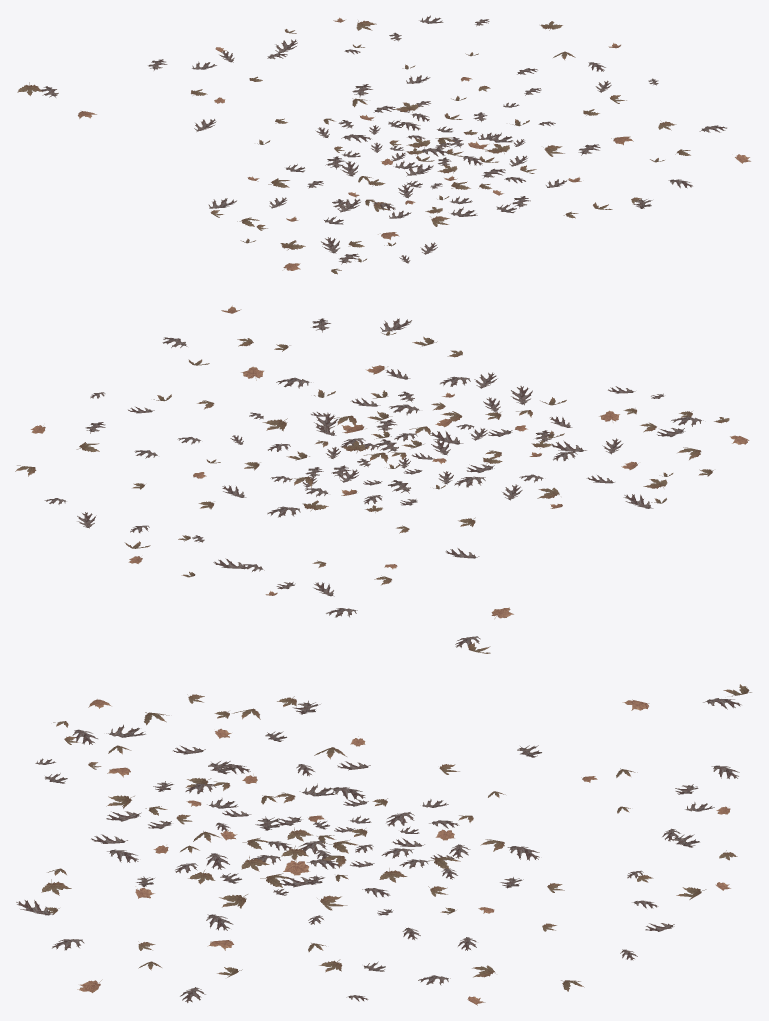
The model's file is SM_Cave_Leaf_Pile03_1.glb.
3 renders of one model, top to bottom at view 1: azimuth 30°, elevation 25°; view 2: azimuth 150°, elevation 25°; view 3: azimuth 270°, elevation 25°, orthographic. The views are drawn at different scales.
Visible parts, largest first — view 1: SM_Cave_Leaf_Pile03_1; view 2: SM_Cave_Leaf_Pile03_1; view 3: SM_Cave_Leaf_Pile03_1.
Boxes of the visible parts, x1,y1,x2,y2 form: SM_Cave_Leaf_Pile03_1: (17, 15, 750, 274); SM_Cave_Leaf_Pile03_1: (15, 305, 749, 653); SM_Cave_Leaf_Pile03_1: (16, 684, 751, 1005).
Size of the model in its own units: 9.67 by 0.1239 by 9.39.
1 material, 1 textured.
